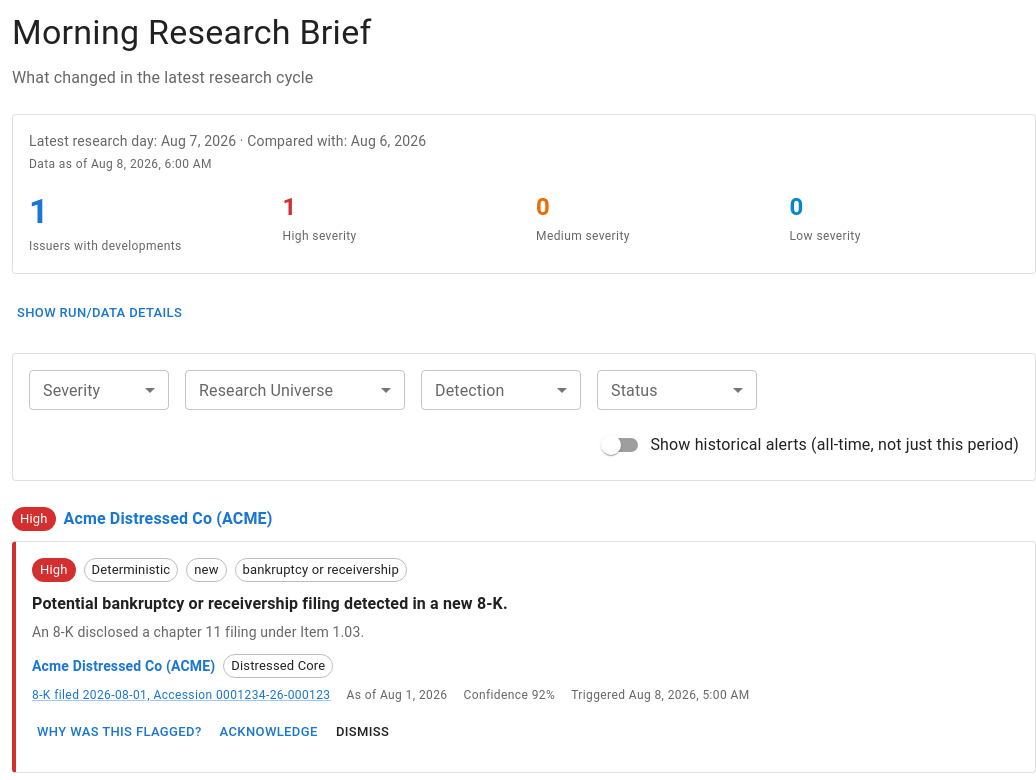
Test: MorningResearchBriefPage › shows the all-time flat alert list only when the historical toggle is on
This screenshot has width=1036, height=780.
Expected: the text "Issuers with developments" is shown, [29, 239, 182, 253]
Click the checkbox labelled "Show historical alerts (all-time, not just this period)" at coordinates (810, 444), box [602, 434, 1019, 454]
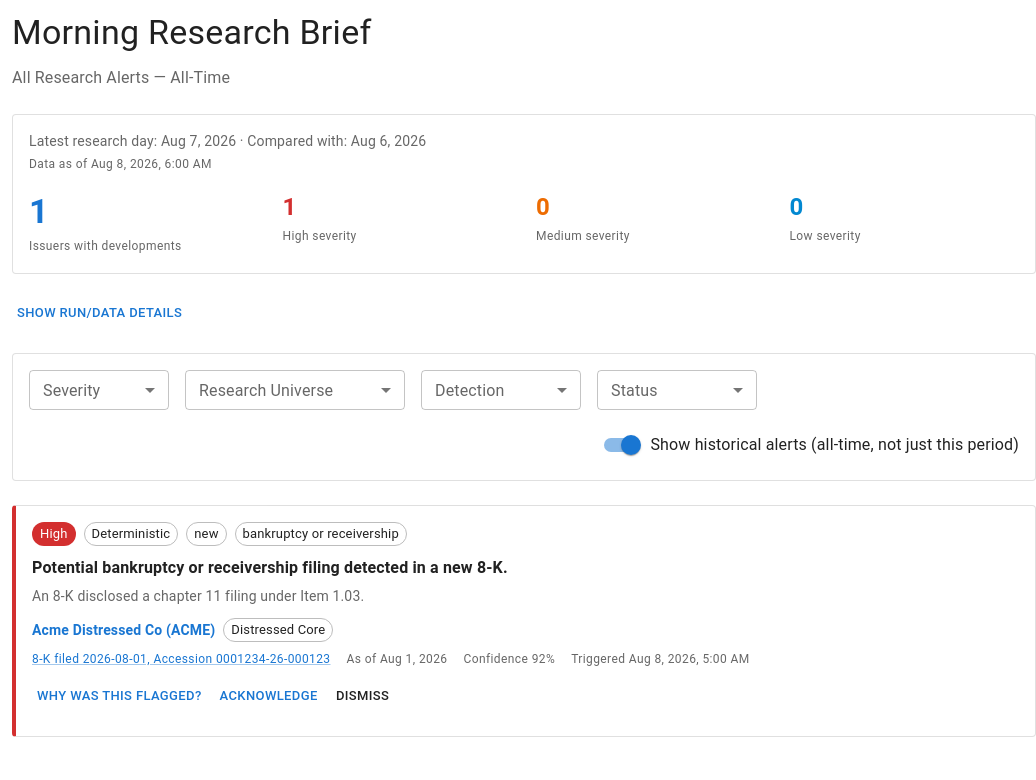
Now the text "All Research Alerts — All-Time" is shown, box [12, 68, 230, 87]
